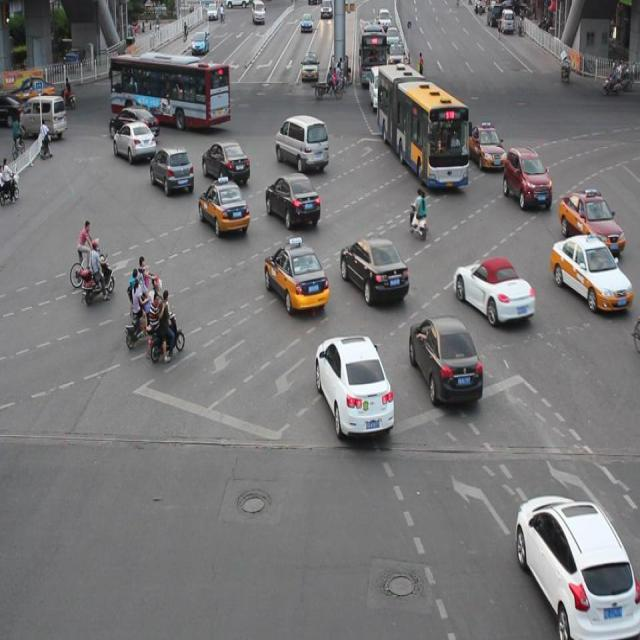car: (514, 493, 640, 640), (314, 333, 394, 433), (408, 313, 482, 404), (549, 232, 630, 310), (453, 255, 534, 323), (339, 234, 409, 302), (263, 240, 329, 310), (558, 188, 623, 255), (264, 172, 320, 226), (502, 146, 550, 208), (198, 176, 248, 235), (202, 139, 249, 185), (150, 145, 193, 195), (110, 104, 160, 140), (467, 123, 505, 169), (112, 121, 156, 160)
truck: (274, 114, 328, 170)
van: (377, 64, 468, 188), (111, 54, 230, 124)
